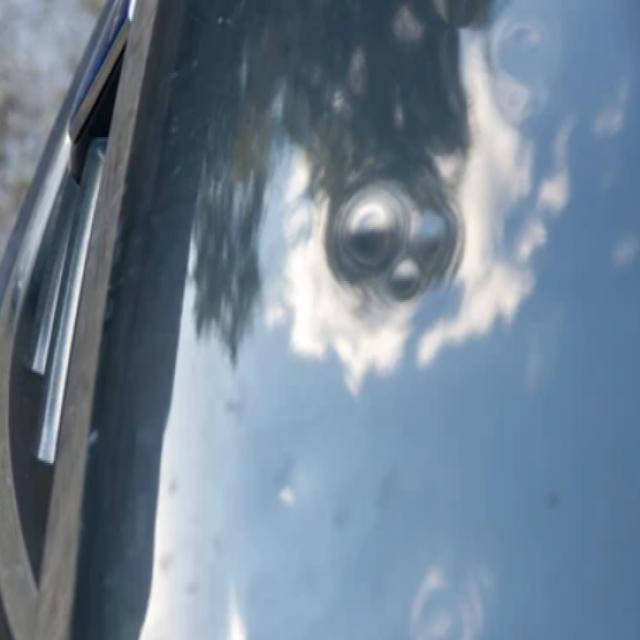dents: (320, 142, 447, 306)
